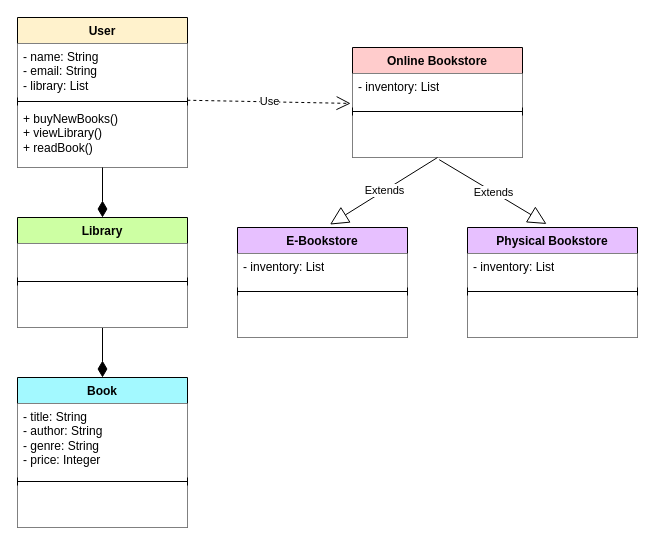
The diagram is 655 pixels wide and 548 high, and some of its shapes have lost their labels. The shapes that lost their labels are listed below. From the top down, each one's centre as x and y in pixels, then its label:
At point (437, 136): "+ displayBooks() + purchaseBook()".
At point (102, 260): "- books: List".
At point (102, 306): "+ addBook() + removeBook()".
At point (322, 316): "+ downloadBook() + chooseFormat()".
At point (552, 316): "+ shipBook()".
At point (102, 506): "+ openBook() + saveReadingProgress()".
